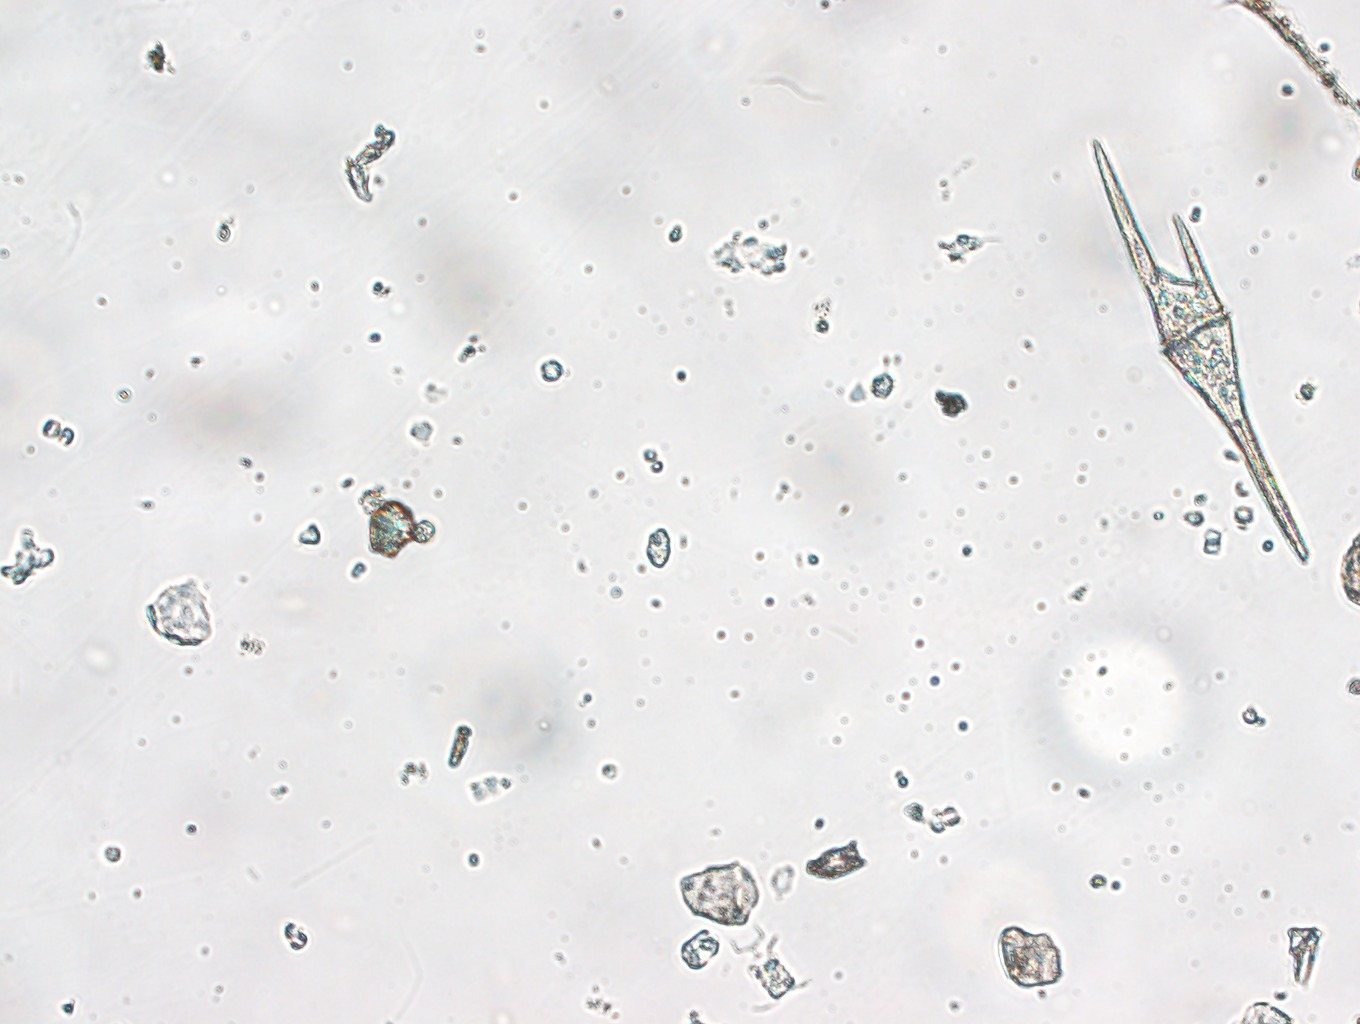ceratium furca: (1073, 136, 1318, 577)
